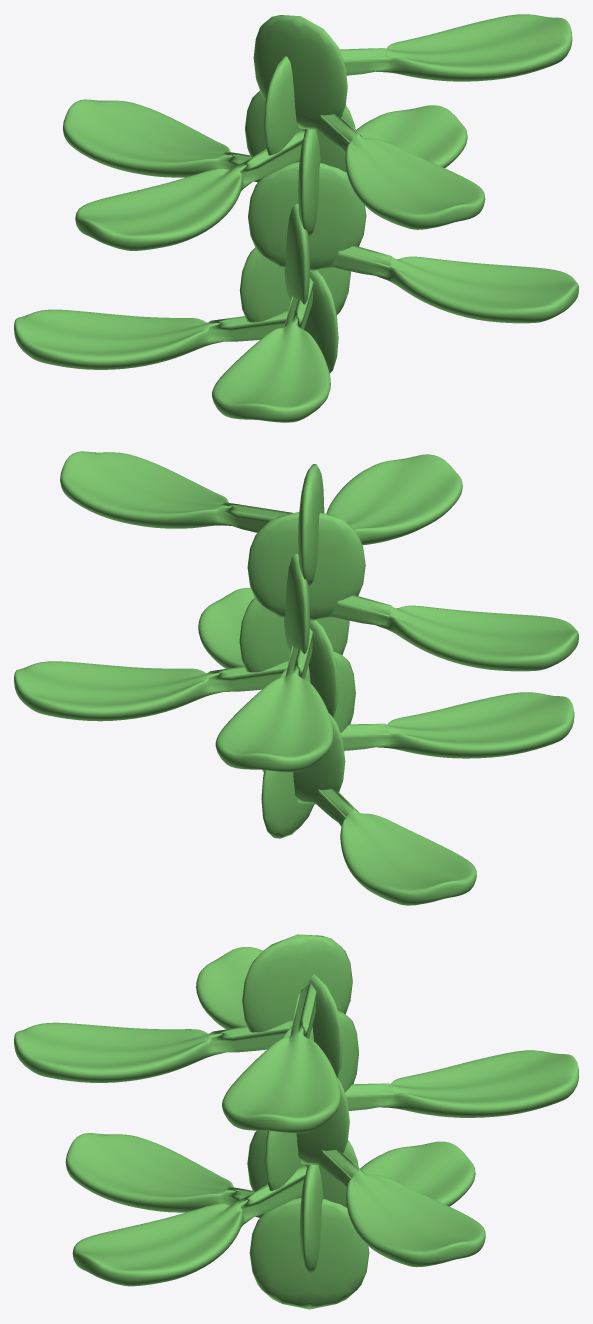
Rendered from Plant3_Small.fbx.
The picture shows the model from 3 angles, top to bottom: view 1: azimuth 30°, elevation 25°; view 2: azimuth 150°, elevation 25°; view 3: azimuth 270°, elevation 25°; orthographic projection.
Parts seen in each view (by area): view 1: Circle; view 2: Circle; view 3: Circle.
Boxes of the visible parts, box(x1,y1,x2,y2) form: Circle: box(14, 14, 578, 422); Circle: box(14, 451, 578, 905); Circle: box(14, 934, 578, 1309).
Size of the model in its own units: 816 by 577 by 801.
